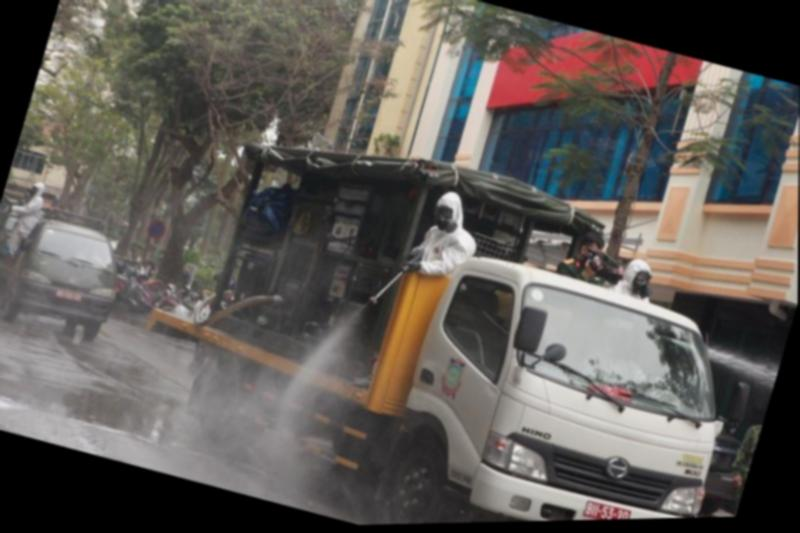License_Plate: (582, 494, 632, 519)
